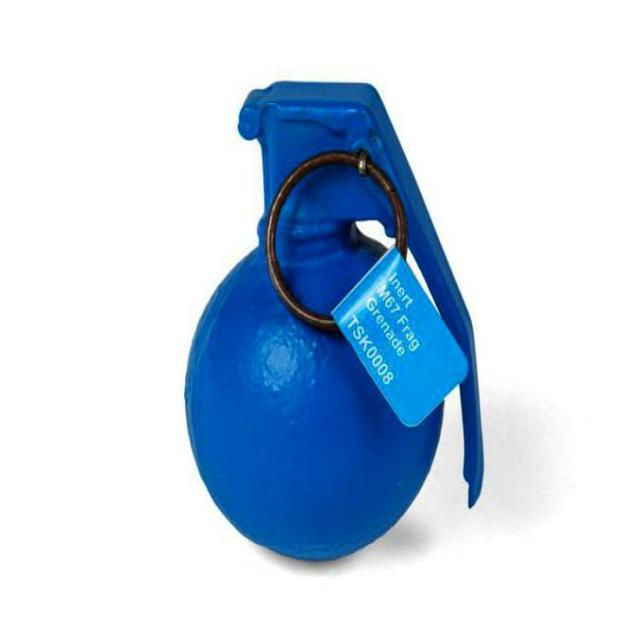grenade: (185, 81, 487, 565)
